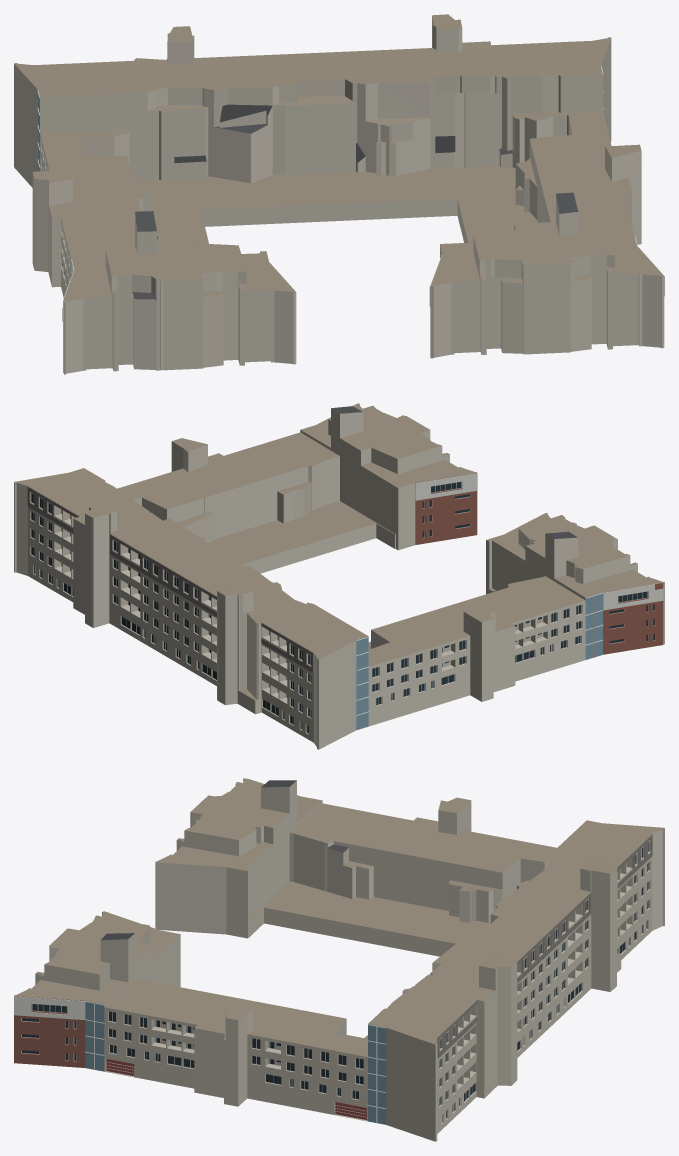
File: recipe-large-jesse-owenshof-1-131508.glb
3 renders of one model, top to bottom at view 1: azimuth 30°, elevation 25°; view 2: azimuth 150°, elevation 25°; view 3: azimuth 270°, elevation 25°, orthographic. The views are drawn at different scales.
Visible parts, largest first — view 1: jesse-owenshof-1-131508; view 2: jesse-owenshof-1-131508; view 3: jesse-owenshof-1-131508.
Part boxes in pixels (x1,y1,x2,y2): jesse-owenshof-1-131508: [14, 14, 664, 374]; jesse-owenshof-1-131508: [14, 403, 664, 749]; jesse-owenshof-1-131508: [14, 778, 664, 1141].
Size of the model in its own units: 106 by 19.81 by 98.39.
